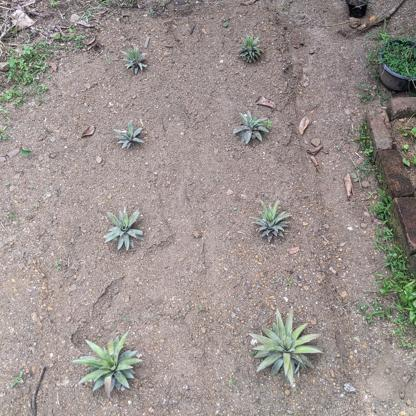pineapple: (247, 306, 327, 391), (72, 329, 146, 398), (100, 206, 149, 255), (252, 200, 296, 247), (232, 109, 277, 152), (110, 119, 151, 154), (231, 31, 266, 66), (124, 40, 152, 78)
